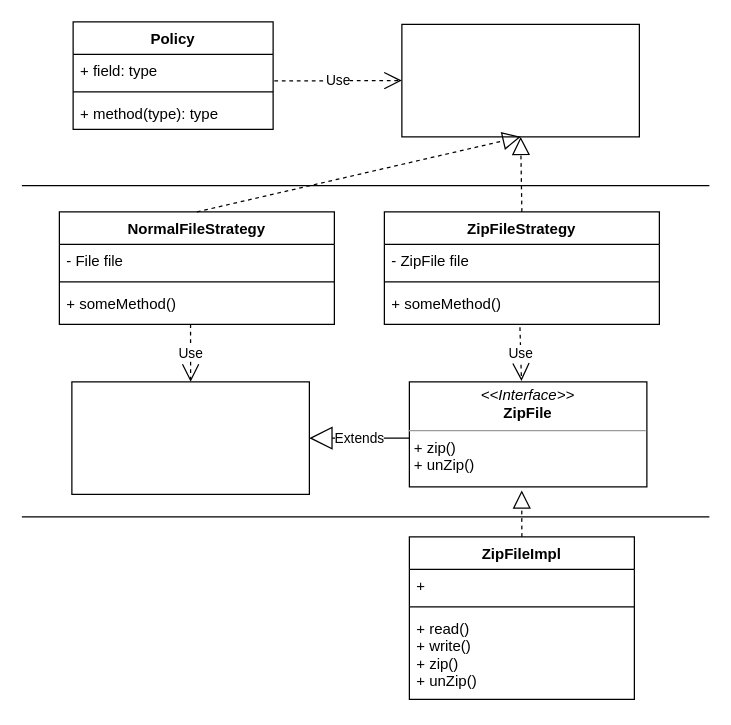
Image size: 731x725. Some labels were removed from this diagram. Each missing label, with the centre of its shape:
"<<Interface>> File + read() + write()" belongs at pixel 190 437.
"<<Interface>> FileStrategy + someMethod()" belongs at pixel 520 80.
